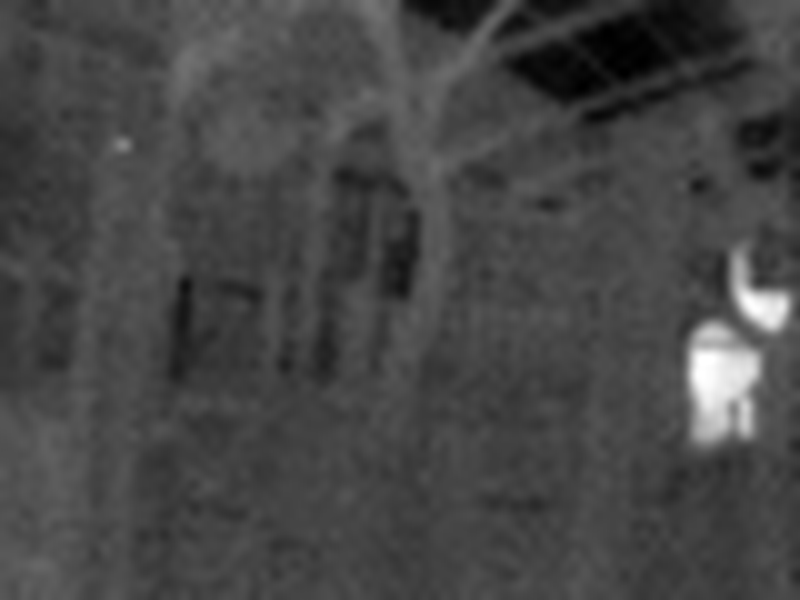elephant: (668, 255, 796, 456)
